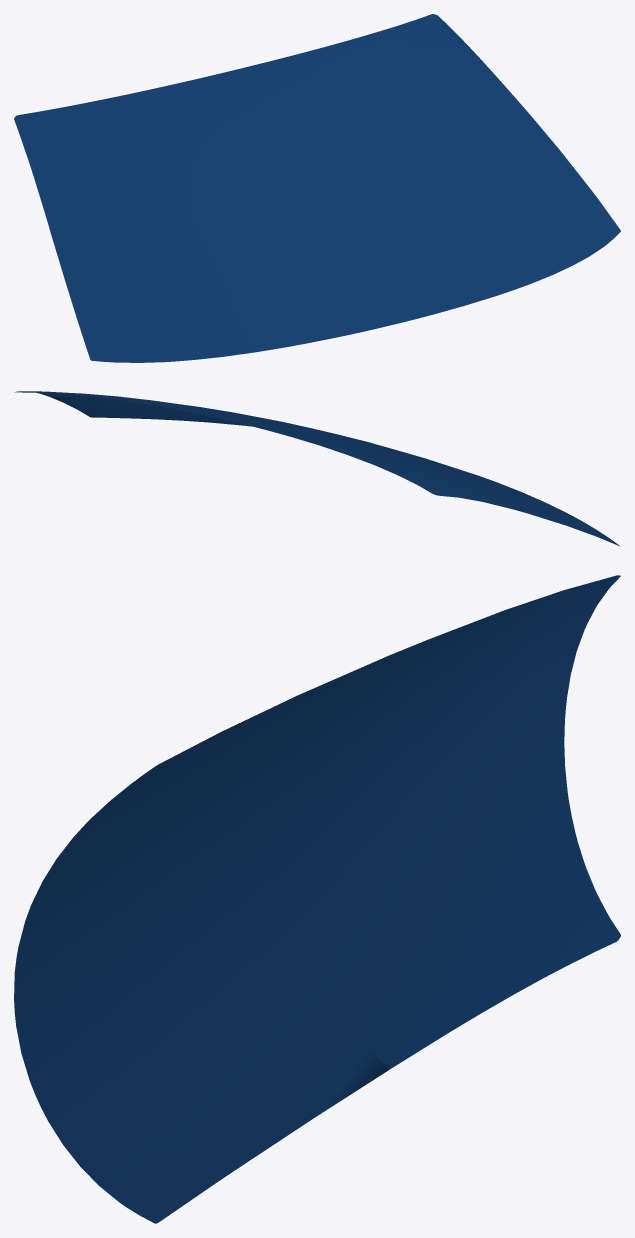
File: Geam_Fata.fbx
3 renders of one model, top to bottom at view 1: azimuth 30°, elevation 25°; view 2: azimuth 150°, elevation 25°; view 3: azimuth 270°, elevation 25°, orthographic. The views are drawn at different scales.
Visible parts, largest first — view 1: geamuri_spates.080; view 2: geamuri_spates.080; view 3: geamuri_spates.080.
Boxes of the visible parts, x1=… form: geamuri_spates.080: x1=14, y1=14, x2=620, y2=362; geamuri_spates.080: x1=14, y1=391, x2=620, y2=546; geamuri_spates.080: x1=14, y1=575, x2=620, y2=1223.
Size of the model in its own units: 2845 by 743 by 1592.
